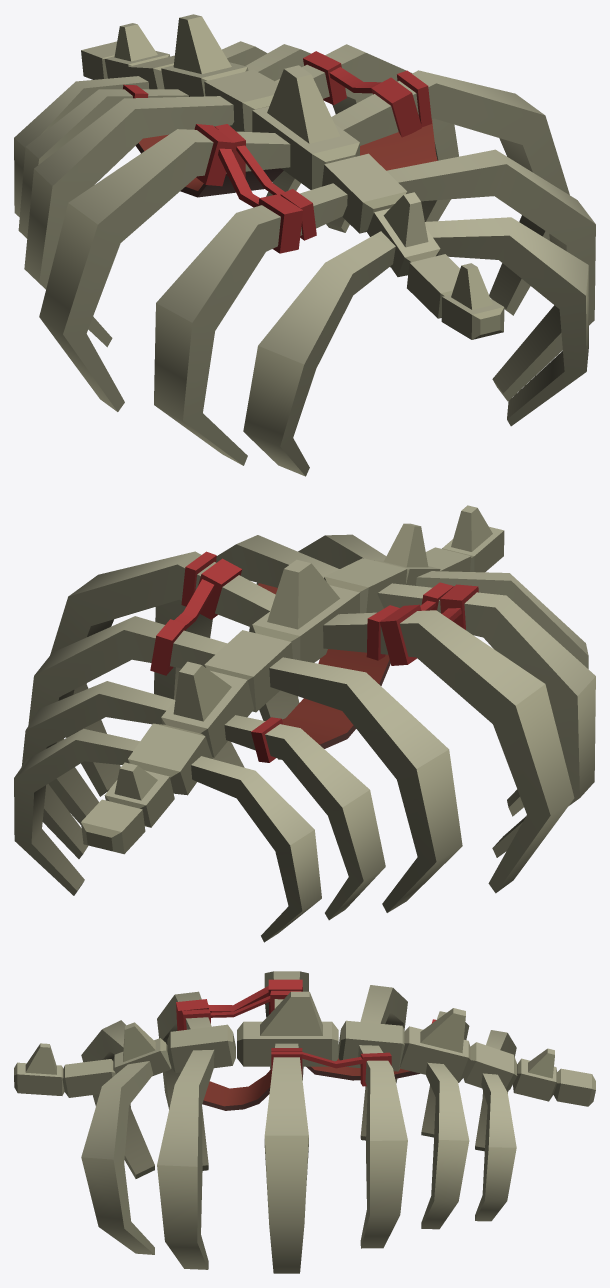
The model's file is SF_Bld_Goblin_Ribcage_01.fbx.
3 views of the same model, one above another, from view 1: azimuth 30°, elevation 25°; view 2: azimuth 150°, elevation 25°; view 3: azimuth 270°, elevation 25° (orthographic). The views are drawn at different scales.
Visible parts, largest first — view 1: SF_Bld_Goblin_Ribcage_01; view 2: SF_Bld_Goblin_Ribcage_01; view 3: SF_Bld_Goblin_Ribcage_01.
Boxes of the visible parts, left/top/right/bottom form: SF_Bld_Goblin_Ribcage_01: left=14, top=14, right=595, bottom=476; SF_Bld_Goblin_Ribcage_01: left=14, top=505, right=595, bottom=942; SF_Bld_Goblin_Ribcage_01: left=14, top=971, right=595, bottom=1273.
Size of the model in its own units: 24.73 by 14.09 by 32.79.
